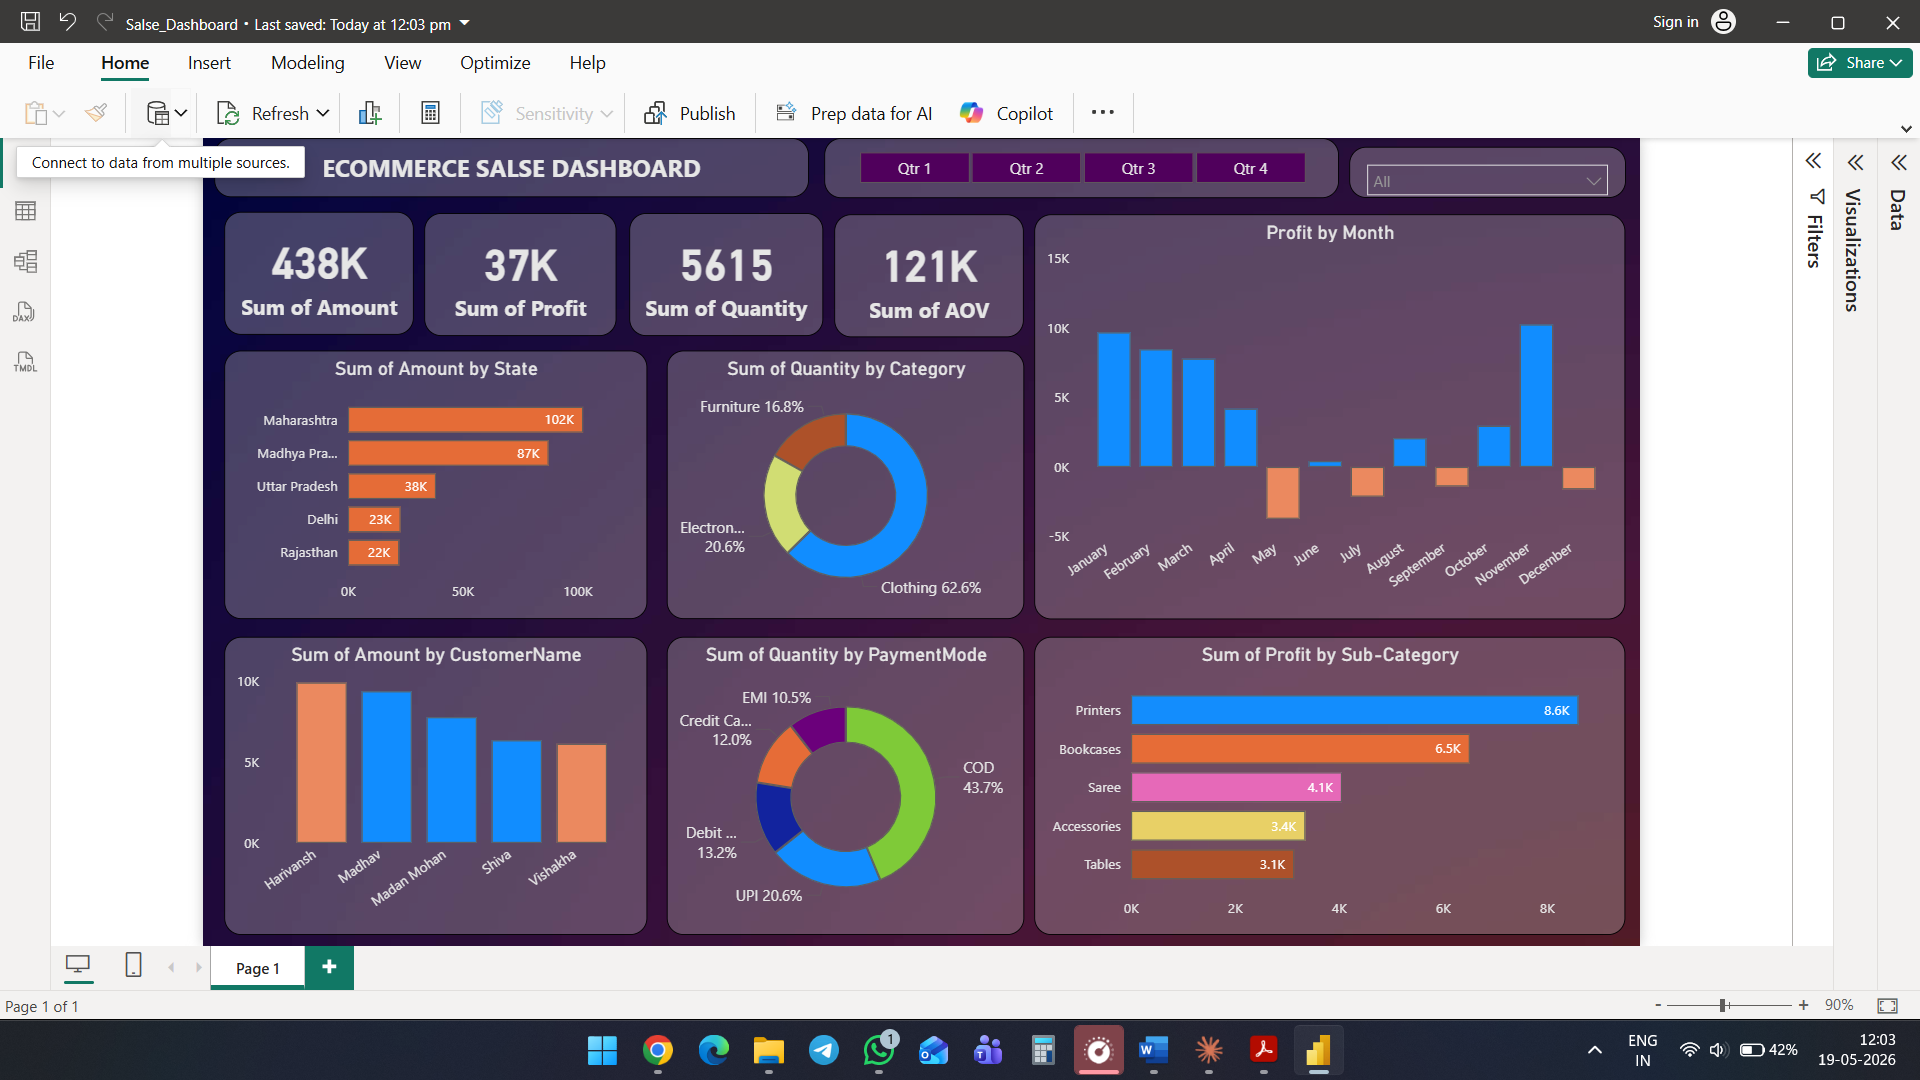

The dashboard page shown, as its layout file describes it:
{"tool":"powerbi","page":{"name":"Page 1","canvas":[1280,720],"ordinal":0},"visuals":[{"type":"textbox","box":[9.7,0,529.6,53.1],"z":0},{"type":"columnChart","title":"Profit by Month","fields":{"Y":["Sum(Details.Profit)"],"Category":["Orders.Order Date.Variation.Date Hierarchy.Month"]},"box":[740.8,67.6,526,360.7],"z":1000},{"type":"barChart","fields":{"Category":["Details.Sub-Category"],"Y":["Sum(Details.Profit)"]},"box":[740.8,444,526,265.4],"z":2000},{"type":"donutChart","fields":{"Category":["Details.Category"],"Y":["Sum(Details.Quantity)"]},"box":[412.6,189.4,318.5,238.9],"z":3000},{"type":"donutChart","fields":{"Y":["Sum(Details.Quantity)"],"Category":["Details.PaymentMode"]},"box":[412.6,444,318.5,265.4],"z":4000},{"type":"card","fields":{"Values":["Sum(Details.Amount)"]},"box":[19.3,65.1,168.9,109.8],"z":5000},{"type":"card","fields":{"Values":["Sum(Details.Profit)"]},"box":[196.6,66.4,171.3,109.8],"z":6000},{"type":"card","fields":{"Values":["Sum(Details.Quantity)"]},"box":[380,66.4,172.5,109.8],"z":7000},{"type":"card","fields":{"Values":["Sum(Details.AOV(Average Order Value))"]},"box":[562.2,67.6,168.9,109.8],"z":8000},{"type":"barChart","fields":{"Category":["Orders.State"],"Y":["Sum(Details.Amount)"]},"box":[19.3,189.4,376.4,238.9],"z":9000},{"type":"columnChart","fields":{"Category":["Orders.CustomerName"],"Y":["Sum(Details.Amount)"]},"box":[19.3,444,376.4,265.4],"z":10000},{"type":"slicer","fields":{"Values":["Orders.Order Date.Variation.Date Hierarchy.Quarter"]},"box":[553,0,458.3,53.5],"z":11000},{"type":"slicer","fields":{"Values":["Orders.State"]},"box":[1020.6,7.2,246.1,45.8],"z":12000}]}

Visuals, with their boxes on the page's 1280x720 design canvas (x1, y1, x2, y2). These are canvas units, not pixel positions in the 1920x1080 screenshot, which may show the page scaled, cropped or inside an application window:
textbox: [x1=10, y1=0, x2=539, y2=53]
"Profit by Month" columnChart: [x1=741, y1=68, x2=1267, y2=428]
barChart - Details.Sub-Category x Sum(Details.Profit): [x1=741, y1=444, x2=1267, y2=709]
donutChart - Details.Category x Sum(Details.Quantity): [x1=413, y1=189, x2=731, y2=428]
donutChart - Sum(Details.Quantity) x Details.PaymentMode: [x1=413, y1=444, x2=731, y2=709]
card - Sum(Details.Amount): [x1=19, y1=65, x2=188, y2=175]
card - Sum(Details.Profit): [x1=197, y1=66, x2=368, y2=176]
card - Sum(Details.Quantity): [x1=380, y1=66, x2=552, y2=176]
card - Sum(Details.AOV(Average Order Value)): [x1=562, y1=68, x2=731, y2=177]
barChart - Orders.State x Sum(Details.Amount): [x1=19, y1=189, x2=396, y2=428]
columnChart - Orders.CustomerName x Sum(Details.Amount): [x1=19, y1=444, x2=396, y2=709]
slicer - Orders.Order Date.Variation.Date Hierarchy.Quarter: [x1=553, y1=0, x2=1011, y2=54]
slicer - Orders.State: [x1=1021, y1=7, x2=1267, y2=53]
